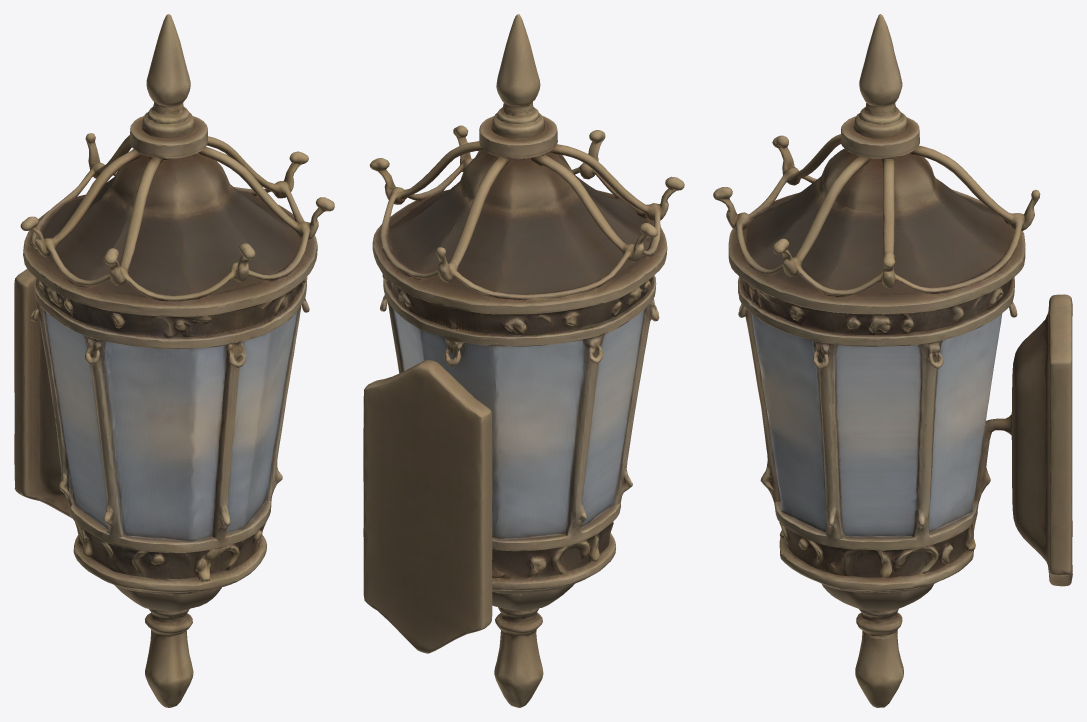
The model's file is head_crown.glb.
3 renders of one model, left to right at view 1: azimuth 30°, elevation 25°; view 2: azimuth 150°, elevation 25°; view 3: azimuth 270°, elevation 25°, orthographic.
Visible parts, largest first — view 1: Mesh; view 2: Mesh; view 3: Mesh.
Boxes of the visible parts, x1,y1,x2,y2 form: Mesh: [14, 14, 334, 707]; Mesh: [363, 14, 684, 707]; Mesh: [713, 14, 1072, 707].
Size of the model in its own units: 0.8286 by 1.91 by 0.9018.
Materials: 1 (1 with a texture image).
